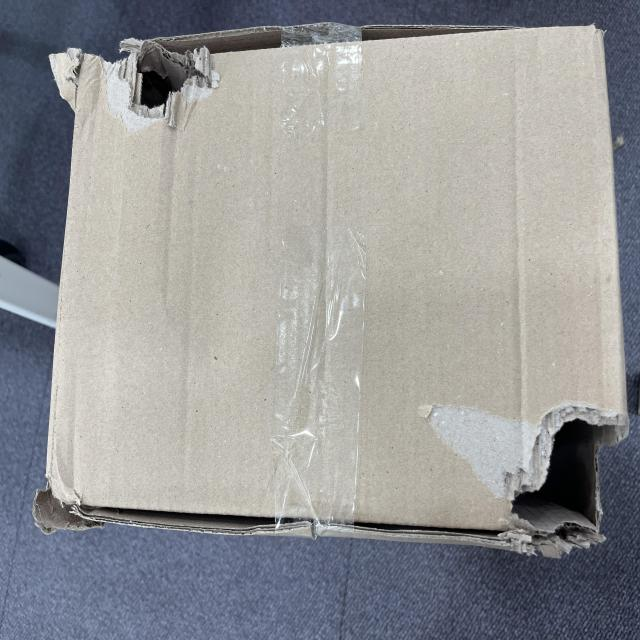damaged: (380, 96, 457, 264)
